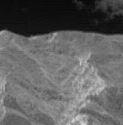Target: (75, 55, 92, 66)
